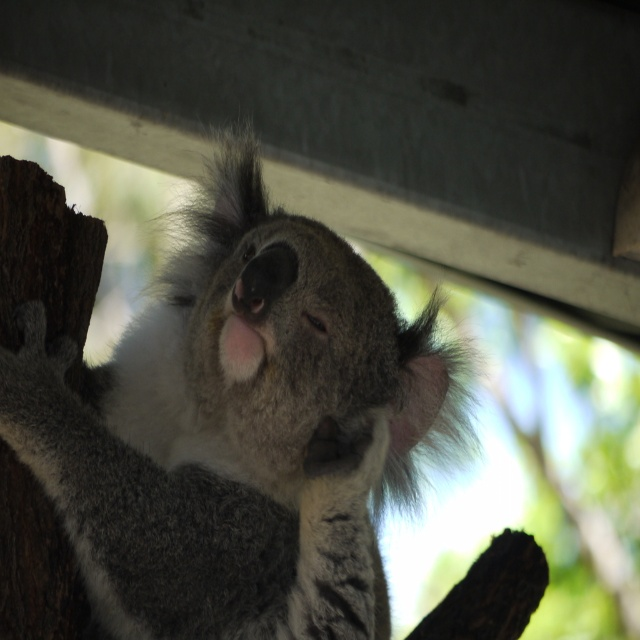Koala: (99, 122, 480, 639)
